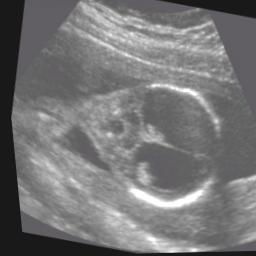abnormal: (86, 70, 236, 226)
